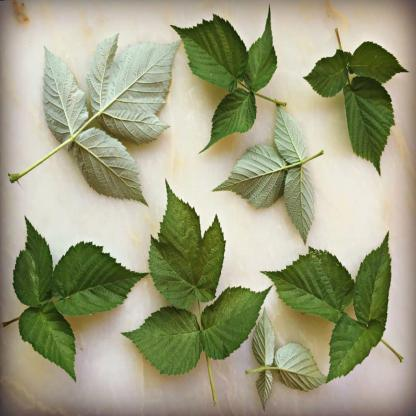Raspberry leaf: (81, 23, 184, 143), (143, 180, 229, 314), (50, 239, 148, 316), (262, 246, 358, 319), (119, 303, 204, 377), (171, 15, 249, 92), (201, 283, 274, 365), (75, 124, 145, 207), (340, 75, 393, 180), (215, 142, 287, 216), (41, 44, 89, 149), (321, 316, 386, 389), (19, 304, 79, 381), (351, 228, 394, 332), (201, 84, 261, 152), (13, 217, 55, 305), (344, 35, 410, 83), (247, 1, 281, 88), (303, 46, 358, 98), (275, 341, 330, 390), (271, 101, 313, 164), (282, 165, 316, 240), (252, 307, 277, 366), (256, 364, 276, 410)
